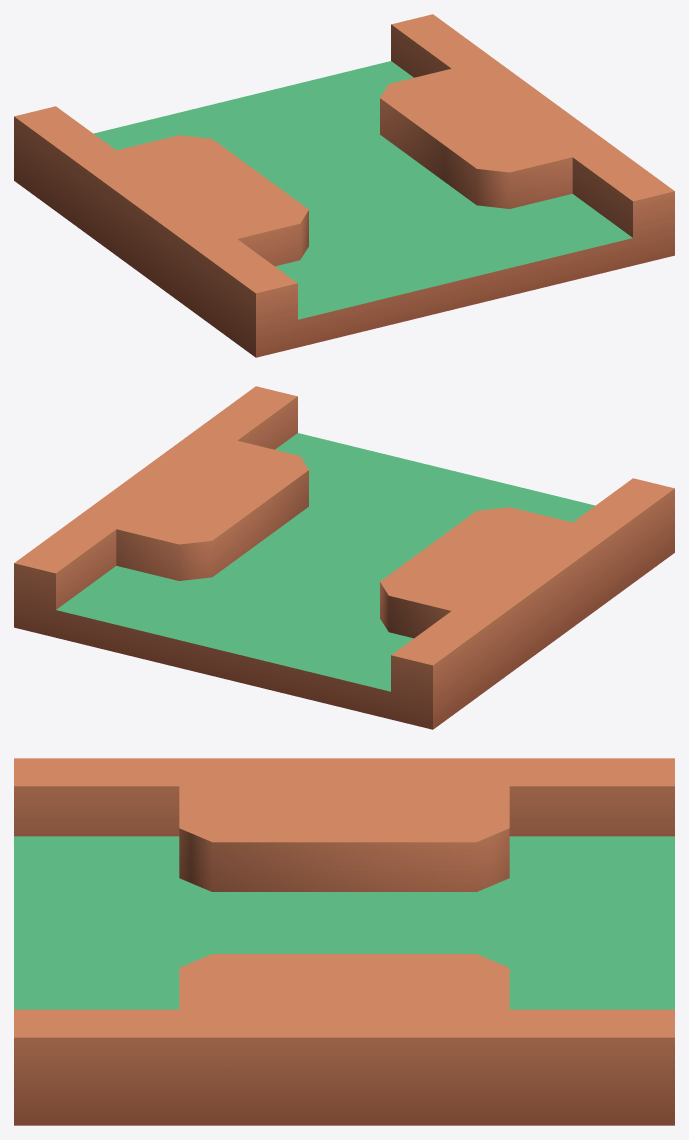
File: narrow-block.glb
3 views of the same model, one above another, from view 1: azimuth 30°, elevation 25°; view 2: azimuth 150°, elevation 25°; view 3: azimuth 270°, elevation 25° (orthographic). The views are drawn at different scales.
Parts seen in each view (by area): view 1: narrow-block; view 2: narrow-block; view 3: narrow-block.
Part boxes in pixels (bbox=[...]): narrow-block: bbox=[14, 14, 674, 357]; narrow-block: bbox=[14, 386, 674, 729]; narrow-block: bbox=[14, 758, 674, 1125].
Bounding box in the file's own units: 0.9999 × 0.1466 × 0.9999.
Materials: 1 (1 with a texture image).
